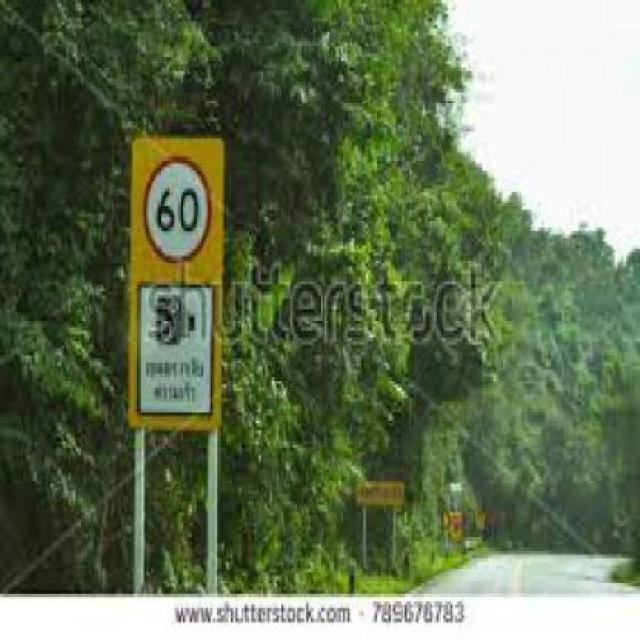forb_speed_over_60: (144, 158, 210, 261)
